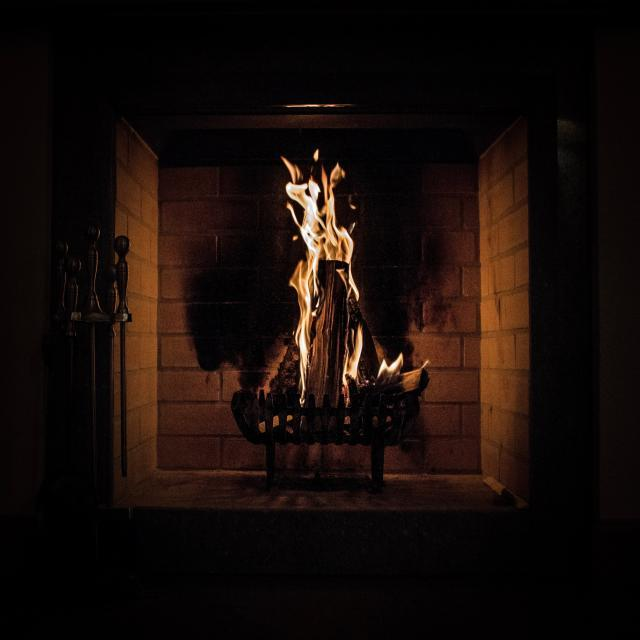Fire: (279, 150, 364, 408), (378, 352, 404, 380)
